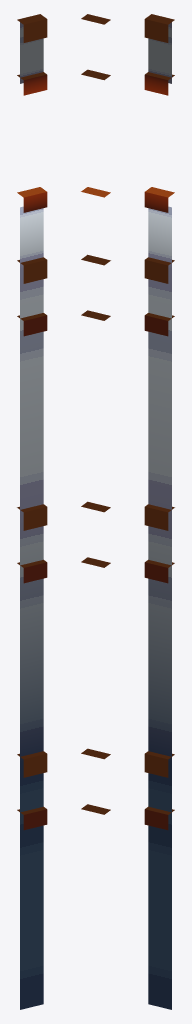
3 views of the same model, side by side, from view 1: azimuth 30°, elevation 25°; view 2: azimuth 150°, elevation 25°; view 3: azimuth 330°, elevation 25° (orthographic).
Bounding box in the file's own units: 1 × 40 × 0.5.
2 materials, 2 textured.
